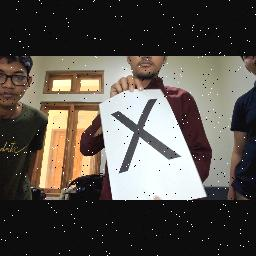x: (102, 96, 190, 176)
